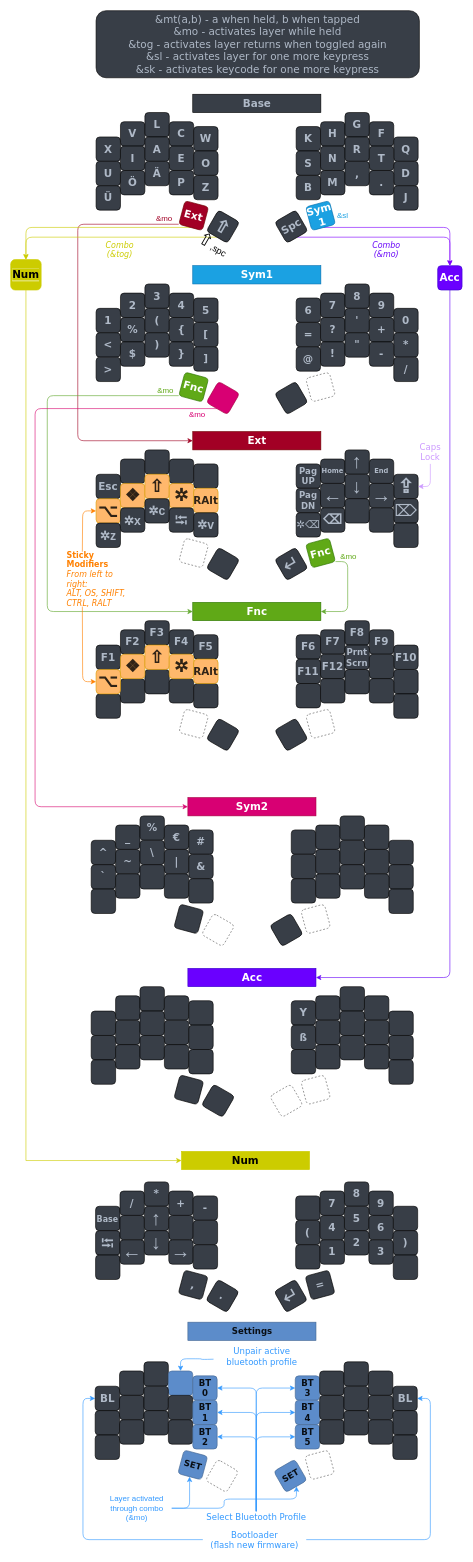
Image size: 473x1562. Some labels were removed from this diagram. The box of each missing label's shape, as (x1, y1, x2, y2) in pixels:
BT CLR: (168, 1370, 193, 1395)
Sym 2: (206, 381, 240, 415)
